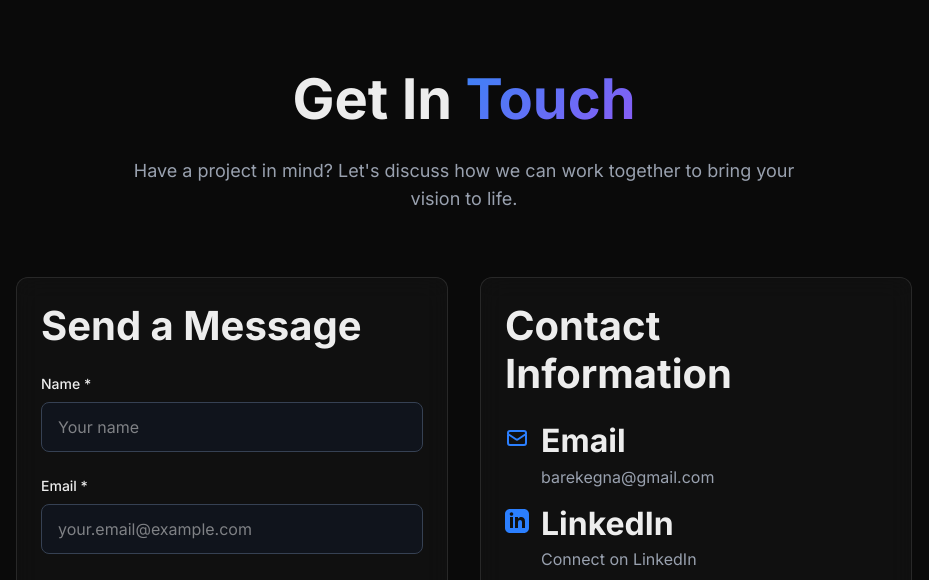
Test: Contact Form › should show error when message field is empty
This screenshot has width=929, height=580.
Type "John Doe" into the field labelled "Name *". click: (232, 427)
box: [41,402,423,452]
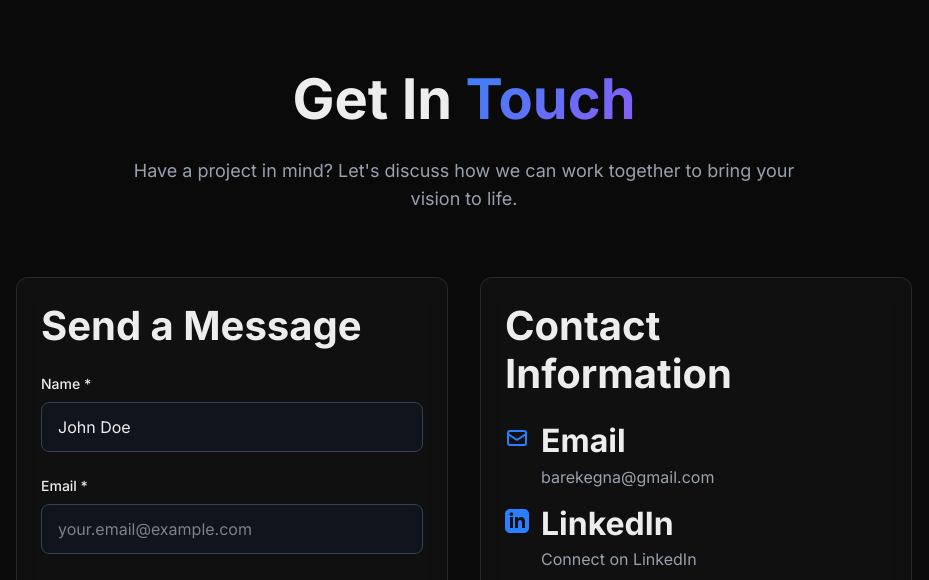
Type "john@example.com" into the field labelled "Email *". click: (232, 529)
box: [41,504,423,554]
(page scrolled)
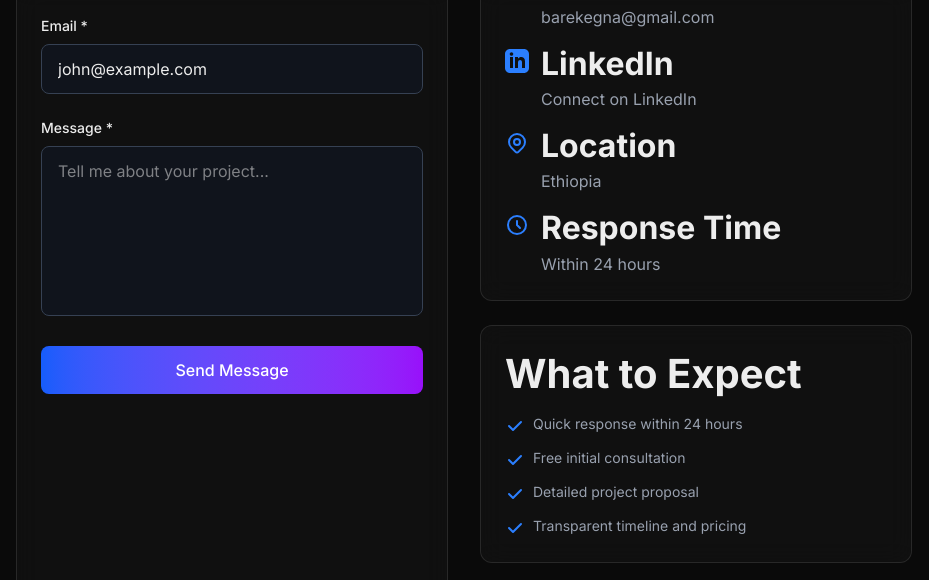
Click the button "Send Message". click: (232, 370)
box: [41,346,423,394]
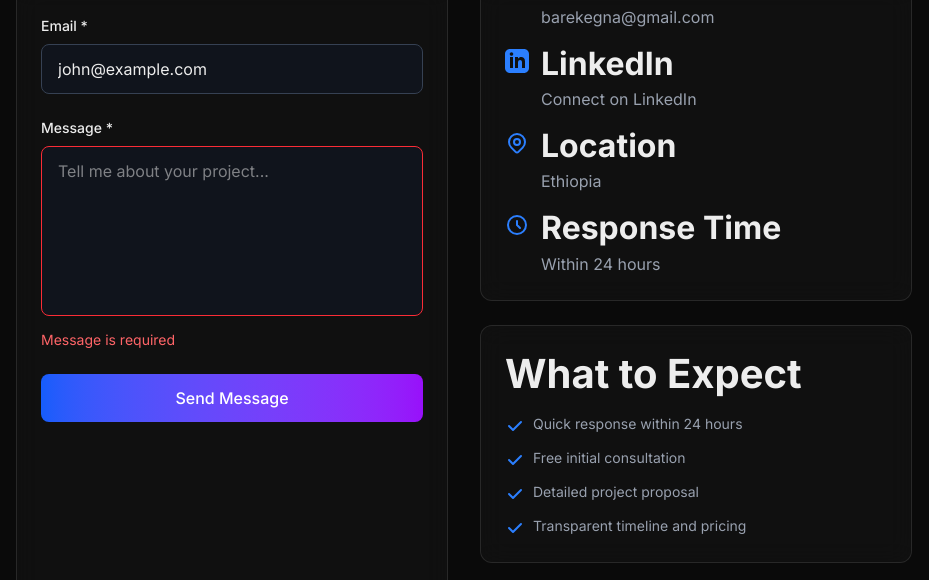
Expected: the text "Message is required" is shown, [41,331,175,348]
